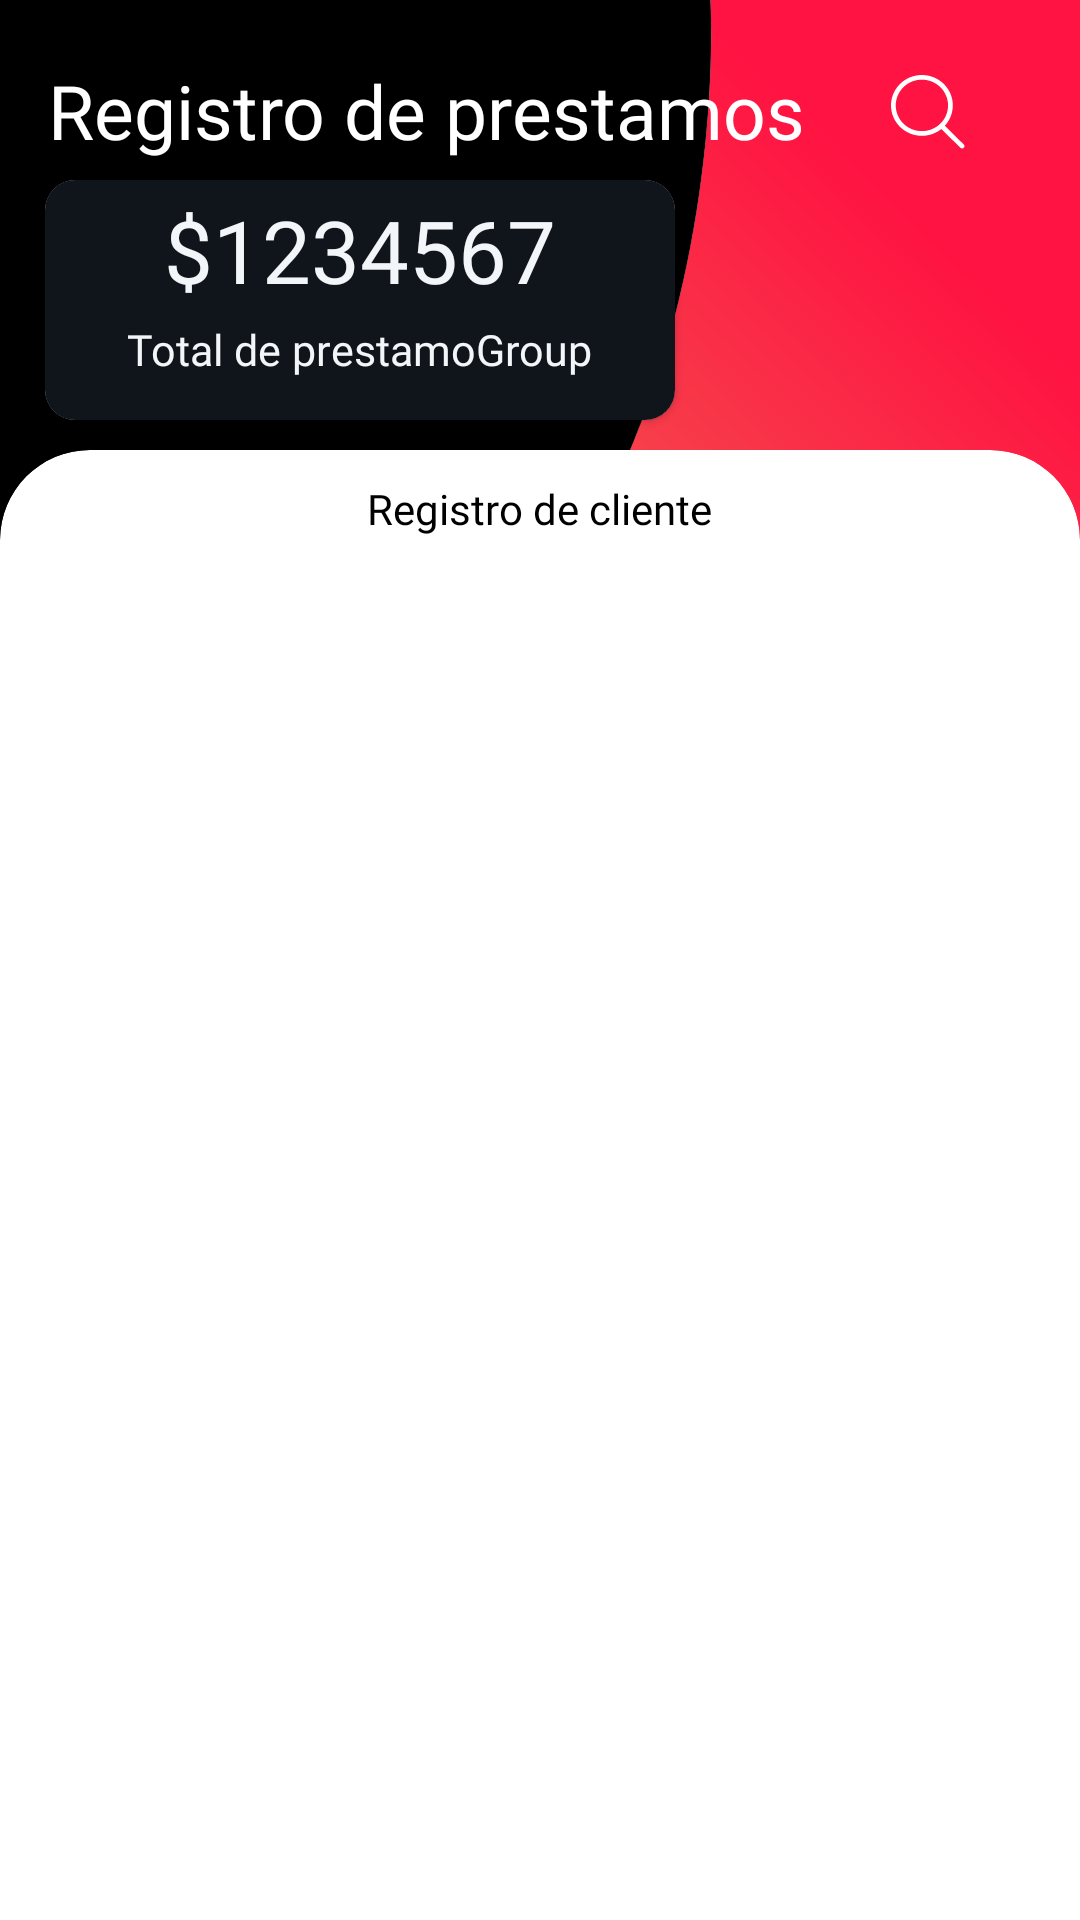

Named icons in this screenshot (1080×1920) and their bounding boxes, (x1=x1, y1=y1, x2=x2, y2=y2):
buscar: (x1=891, y1=75, x2=965, y2=149)
